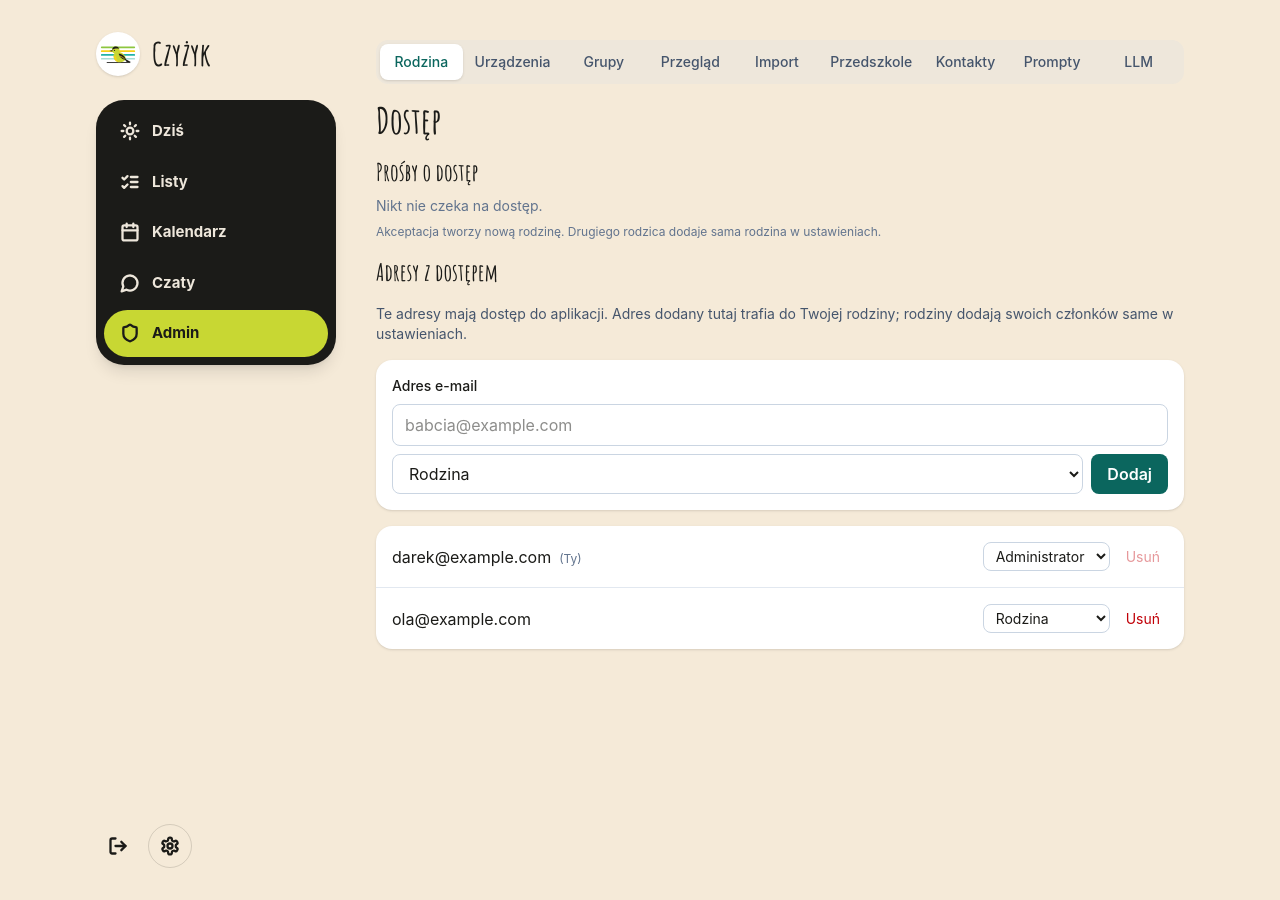
Test: Admin → Dostęp › pokazuje błąd zwrócony przez bazę
Step 1. Type "x@y.pl" into the field labelled "Adres e-mail" → (780, 425), box [392,404,1168,446]
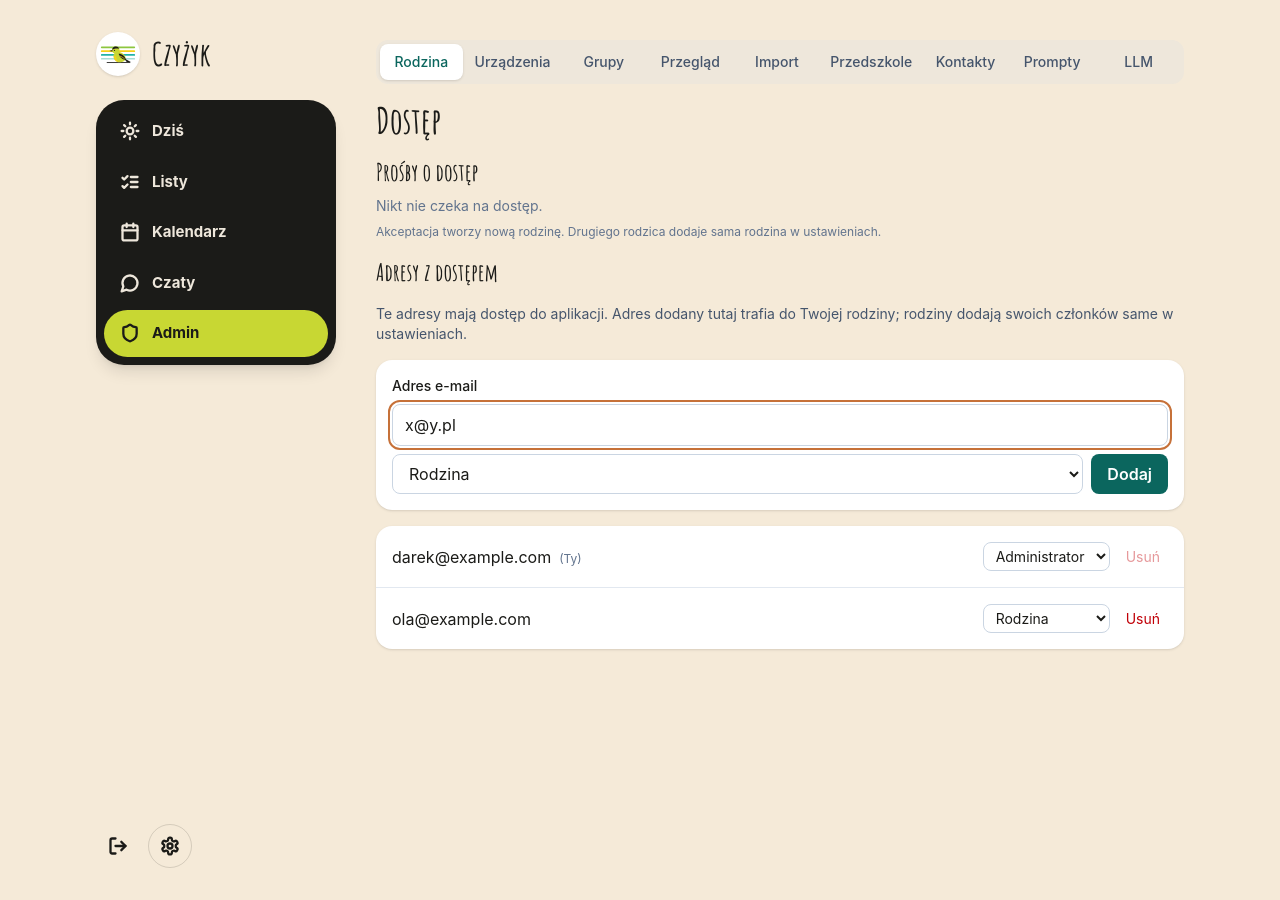
Step 2. Click the button "Dodaj" → (1130, 474), box [1091,454,1168,494]
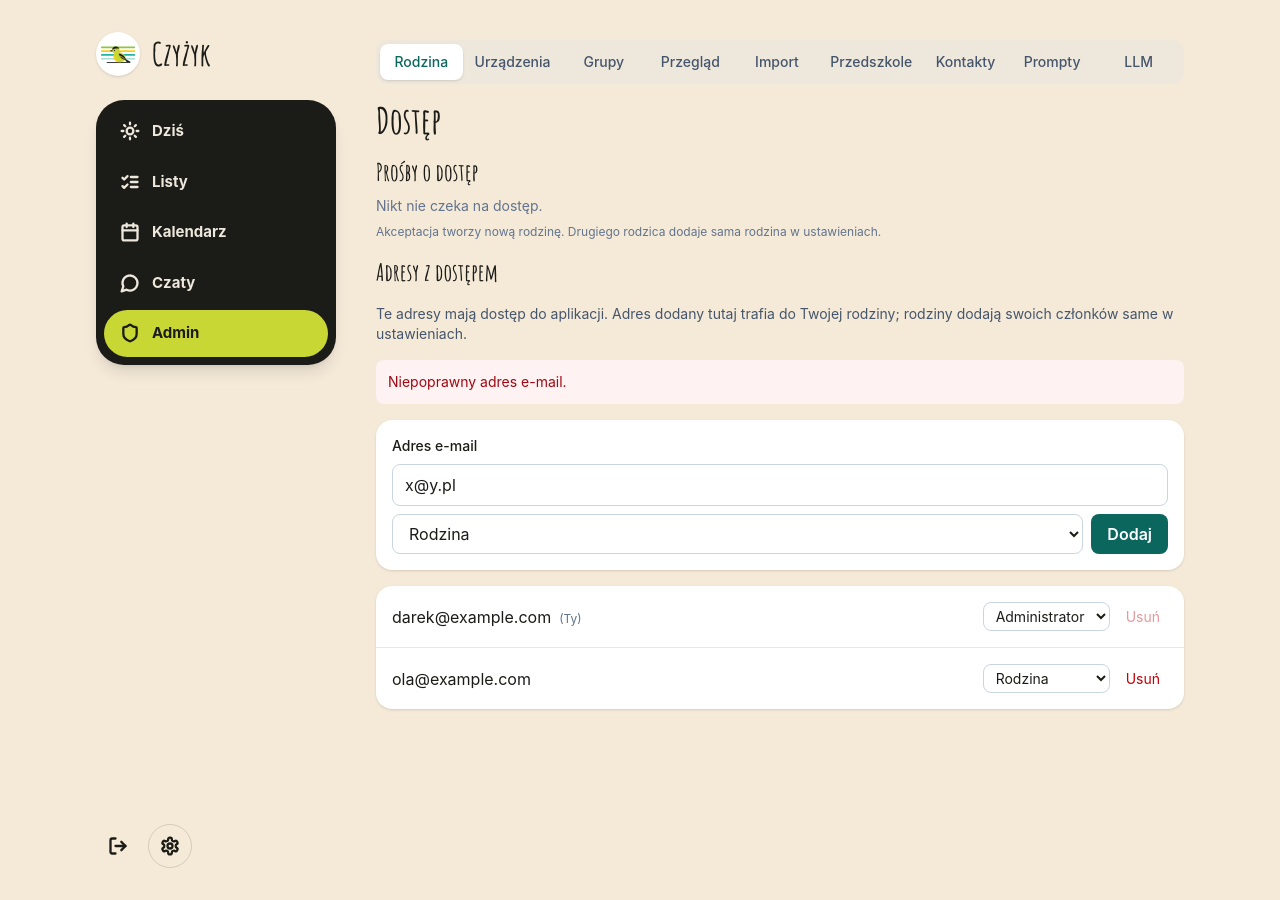
Now the message reads "Niepoprawny adres e-mail.", box [388,373,567,390]
